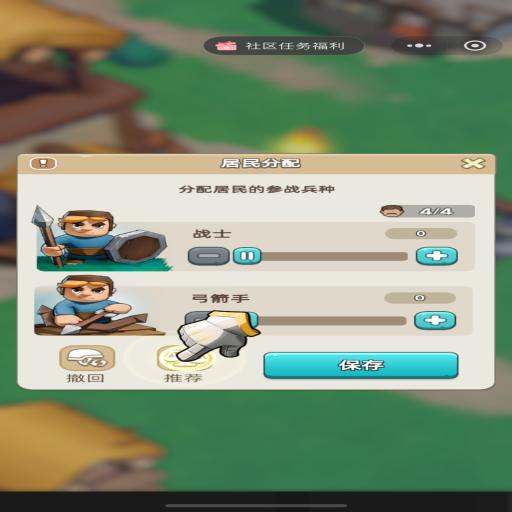newcomer_hand: (174, 310, 261, 361)
